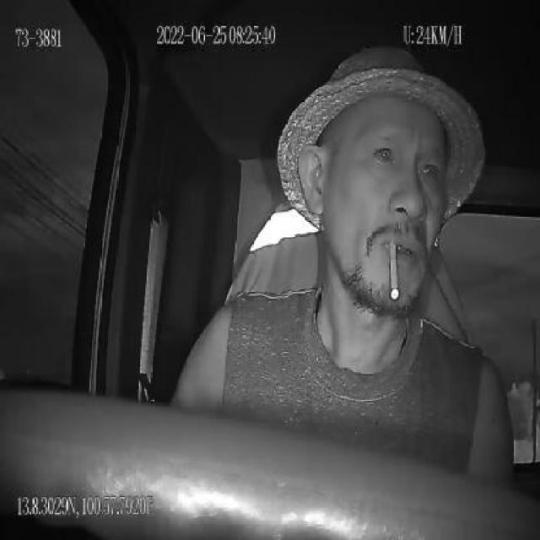smoking: (387, 239, 401, 305)
